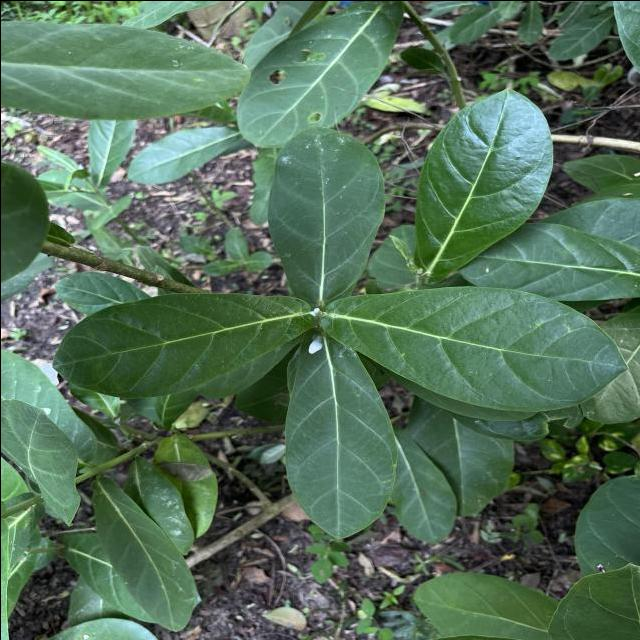Calotropis gigantea: (317, 284, 631, 413), (51, 290, 316, 398), (411, 87, 555, 280), (233, 0, 404, 149), (282, 328, 400, 540), (264, 124, 386, 300)
